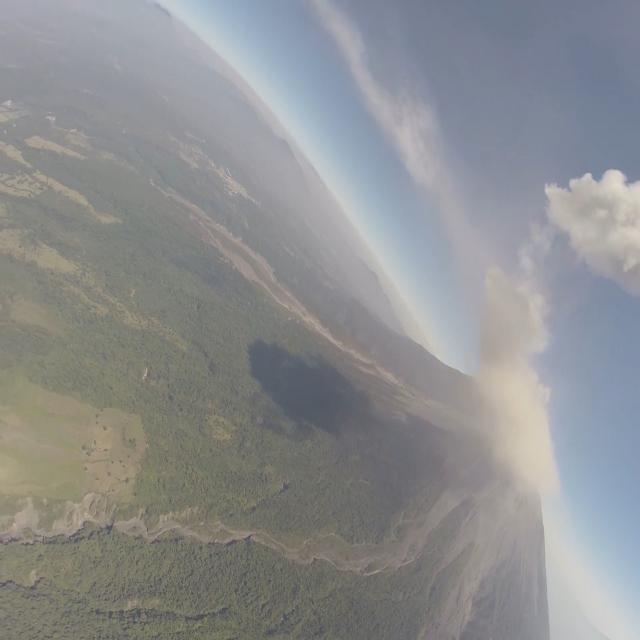Plume: (472, 259, 568, 504), (538, 160, 640, 290)
